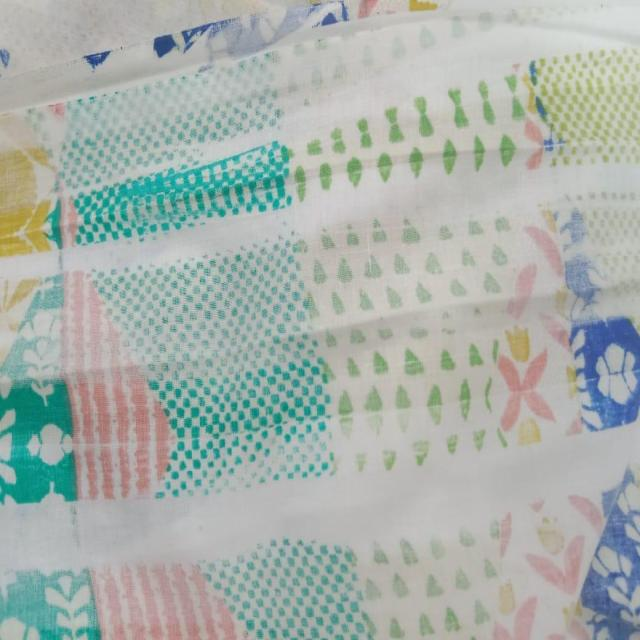selvet: (2, 421, 640, 571), (5, 162, 640, 267), (176, 8, 628, 150)
